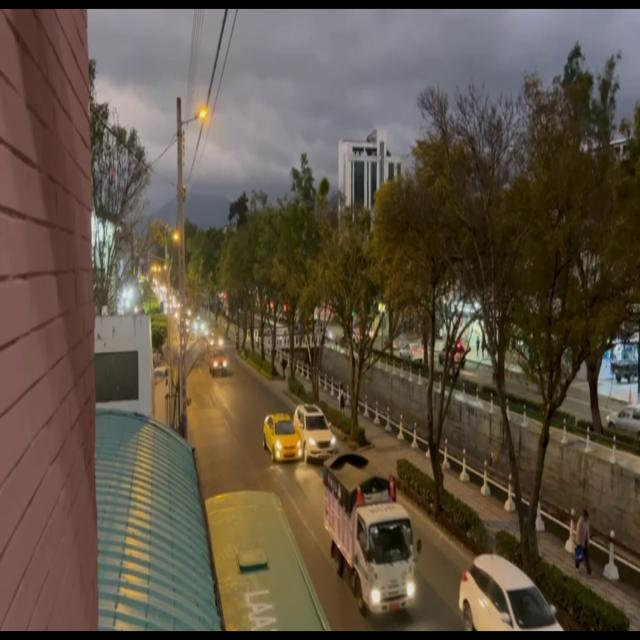SED: (266, 417, 300, 460)
TRUCK: (358, 501, 418, 616)
